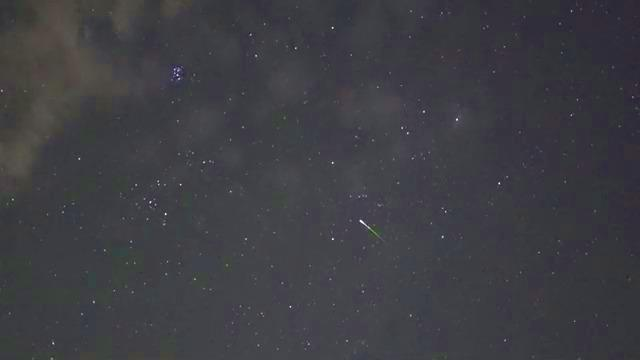meteorite: (335, 215, 400, 244)
